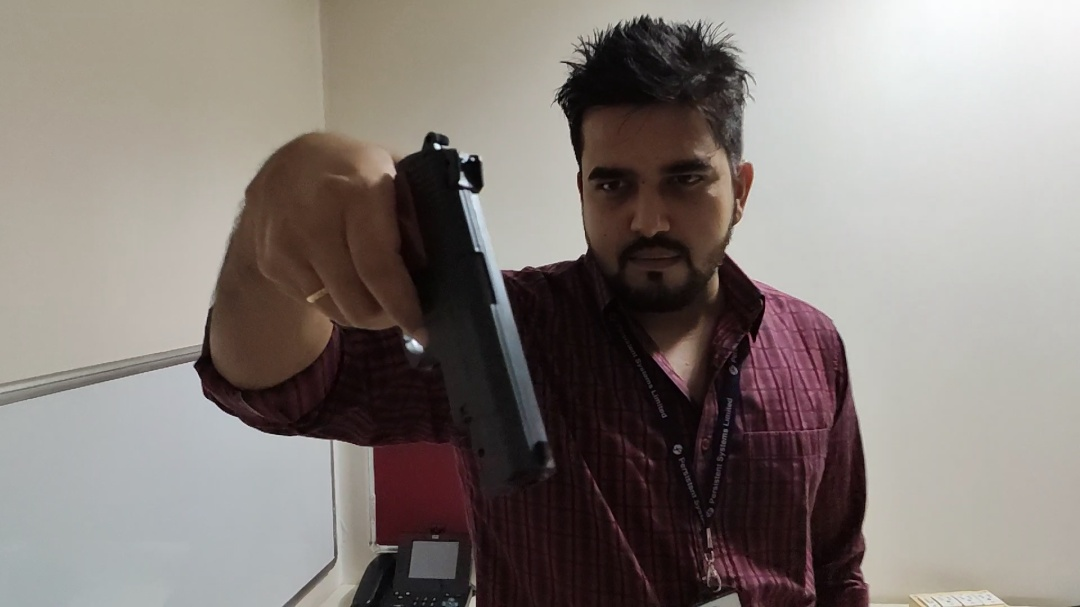gun: (324, 116, 561, 506)
